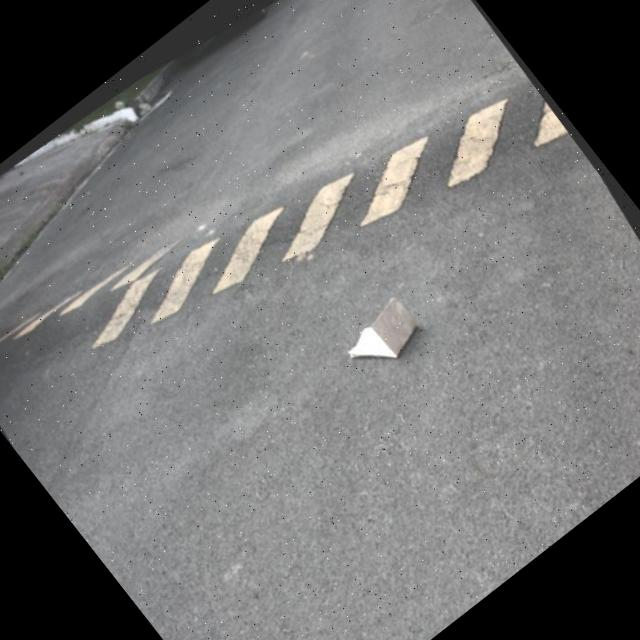Kardus: (336, 293, 428, 381)
